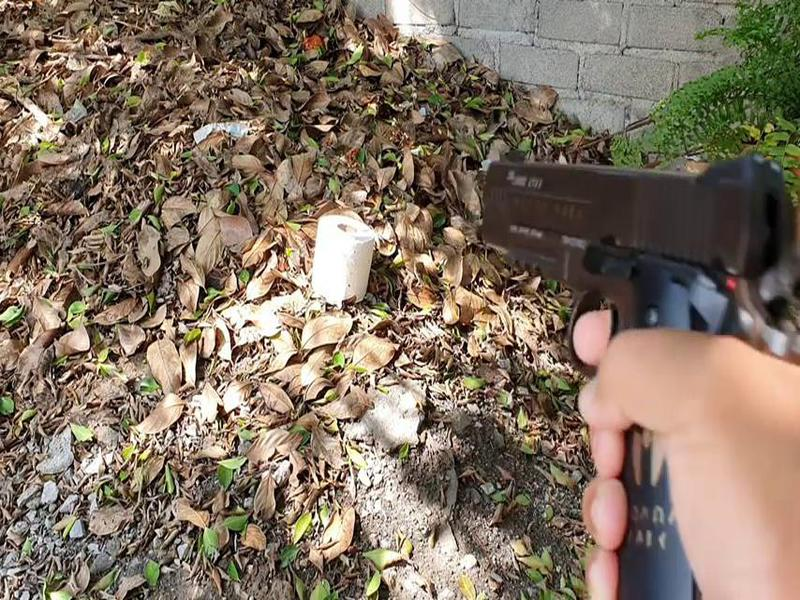Pistola: (441, 116, 784, 600)
